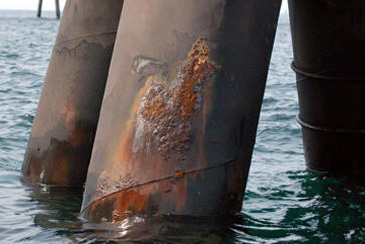rust: (111, 81, 202, 216), (42, 143, 74, 181)
